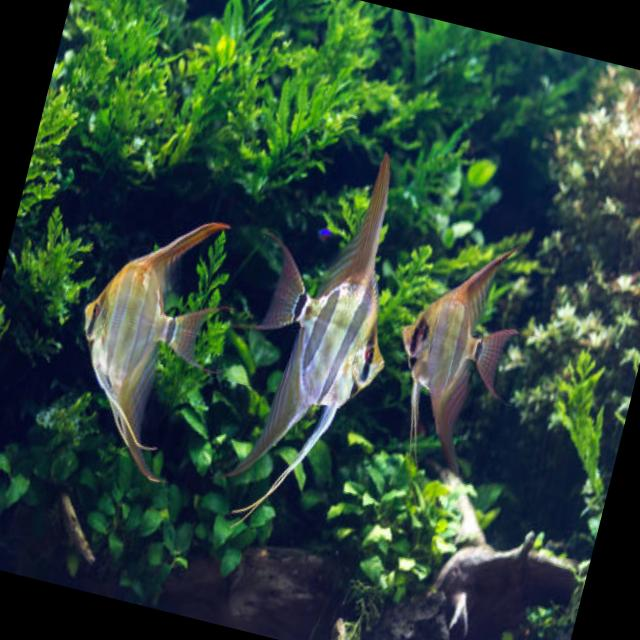AngelFish: (198, 136, 436, 549), (39, 190, 242, 497), (366, 222, 540, 477)
